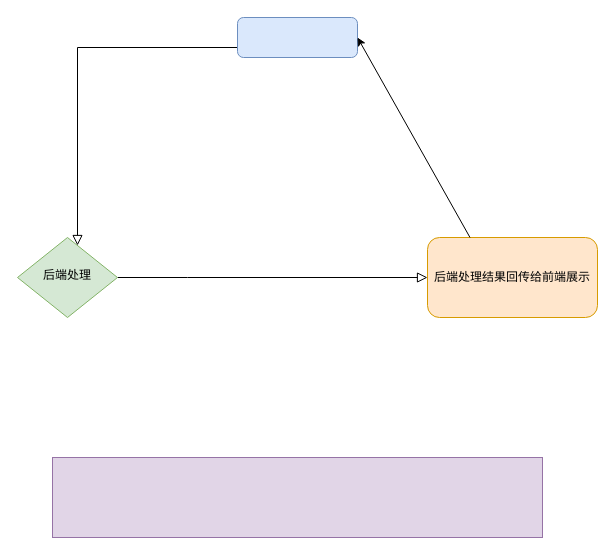
Some shapes in this 615 by 555 pixel diagram are drawn without their labels. Each missing label, with the box of its shape:
interaction -（font-end<->after-end）: (52, 456, 542, 538)
前端发送需求: (236, 16, 358, 58)
